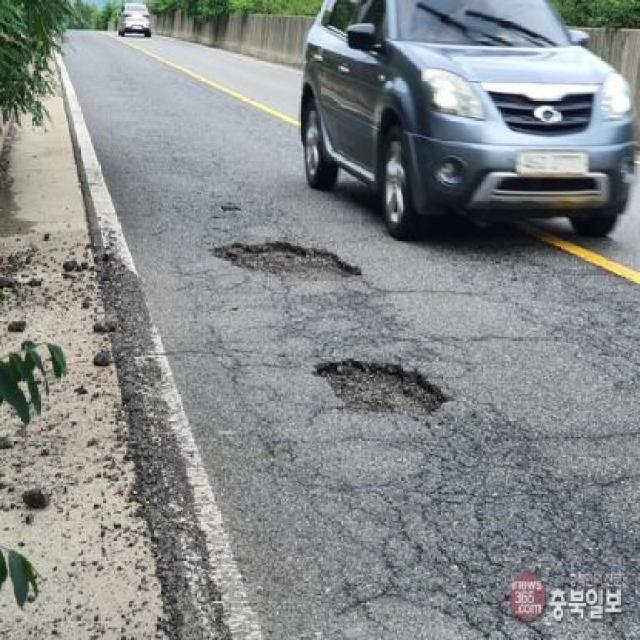Pothole: (308, 352, 455, 426), (208, 229, 372, 294)
